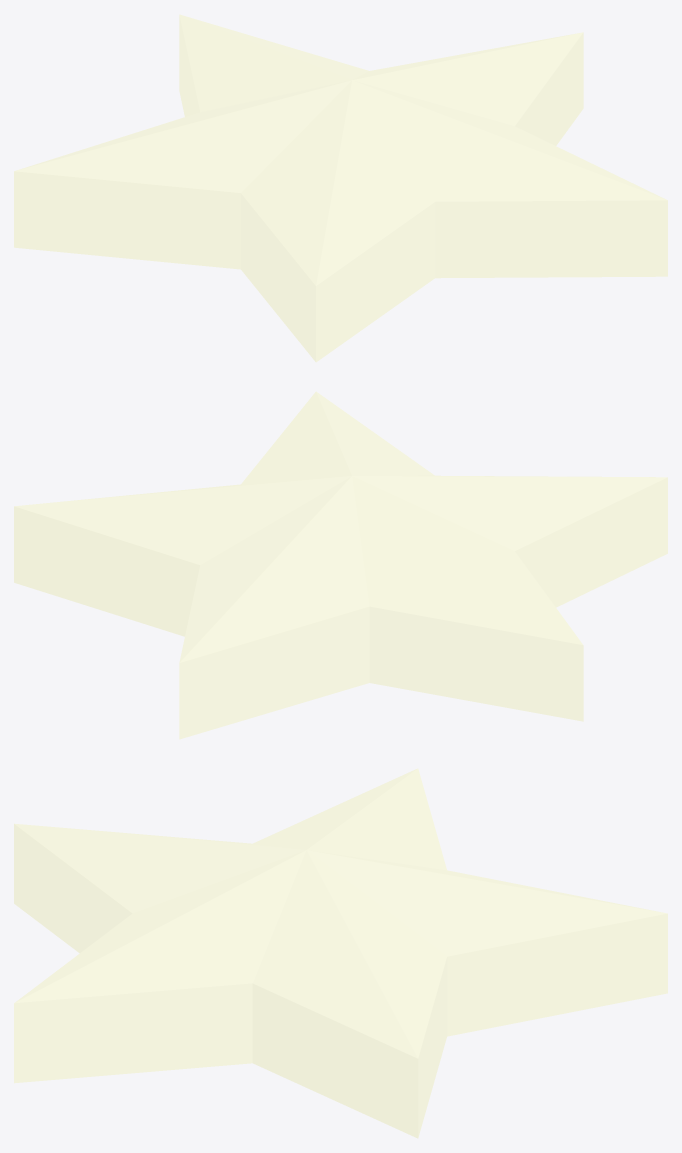
Rendered from star.glb.
3 views of the same model, one above another, from view 1: azimuth 30°, elevation 25°; view 2: azimuth 150°, elevation 25°; view 3: azimuth 270°, elevation 25° (orthographic). The views are drawn at different scales.
Visible parts, largest first — view 1: Star; view 2: Star; view 3: Star.
Part boxes in pixels (x1,y1,x2,y2): Star: (14,14,667,362); Star: (14,391,667,739); Star: (14,768,667,1138).
Size of the model in its own units: 1.9 by 0.6314 by 1.81.
